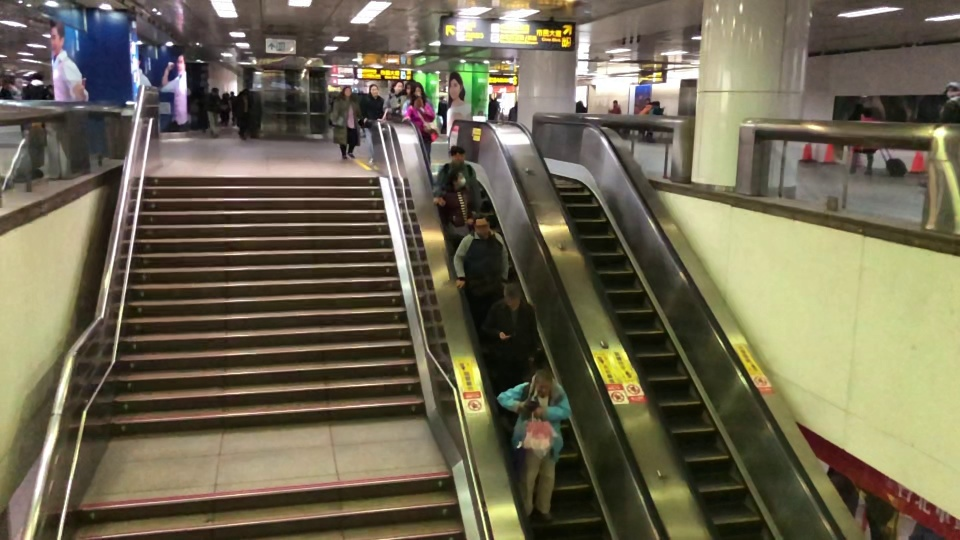person_head: (533, 365, 554, 399), (503, 281, 522, 310), (470, 213, 491, 237), (447, 168, 467, 189), (447, 145, 467, 165), (943, 78, 960, 98), (409, 82, 425, 98), (410, 93, 426, 107), (390, 79, 404, 93), (859, 106, 873, 118), (368, 82, 379, 97), (30, 72, 44, 83), (238, 87, 250, 98), (342, 85, 353, 97), (210, 86, 220, 95), (612, 100, 618, 106)
person_vbox: (497, 367, 572, 522), (480, 280, 538, 394), (453, 214, 509, 326), (916, 80, 960, 188), (433, 144, 483, 215), (437, 170, 478, 249), (330, 84, 367, 159), (403, 91, 435, 167), (848, 105, 881, 175), (359, 83, 385, 162), (233, 87, 253, 140), (204, 87, 222, 137), (23, 72, 49, 101), (608, 99, 622, 114)
